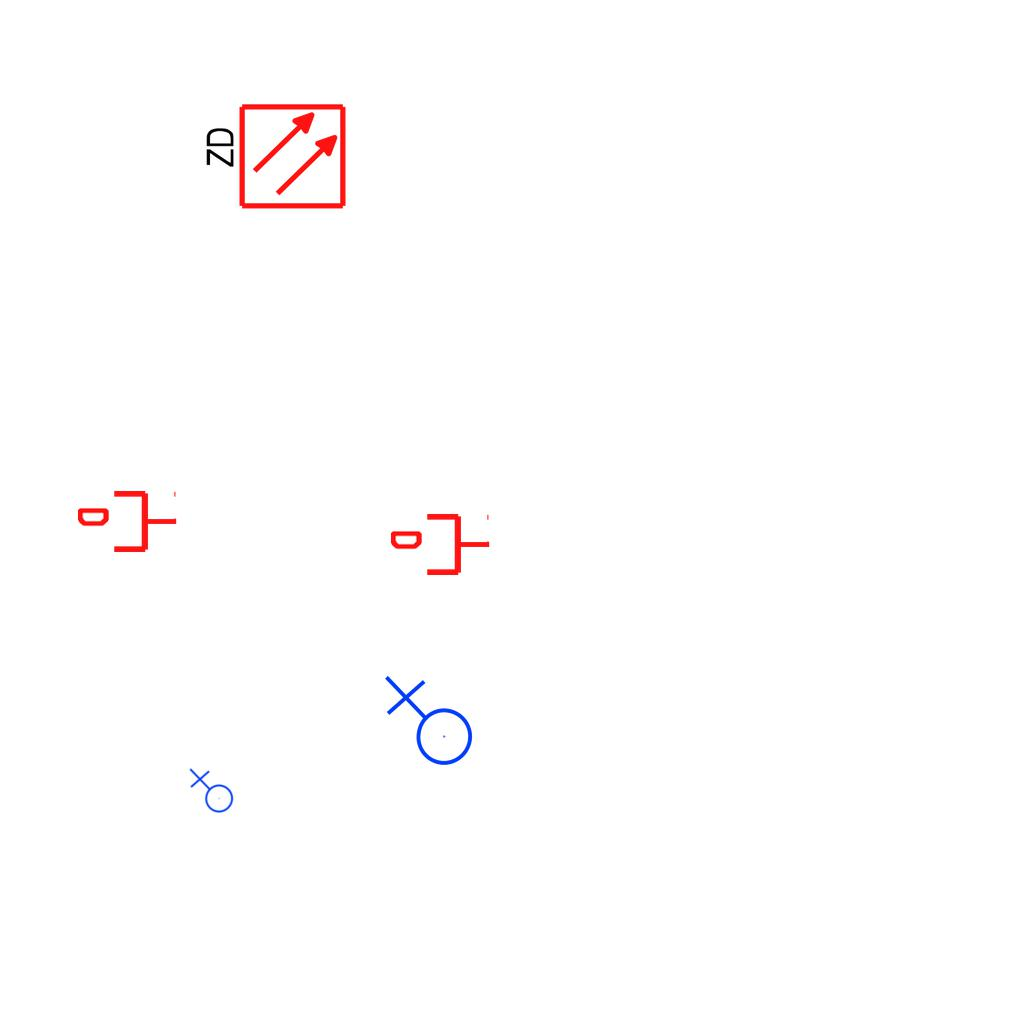Datenanschluss_einfach: (391, 510, 491, 579), (78, 487, 178, 556)
Elektroanschluss_allgemein_230V_Geraeteanschlussdose_230V: (380, 675, 474, 774), (187, 768, 234, 817)
ZD_Melder_in_Zwischendecke_mit_Revisionsoeffnung_mind_40_x_40_cm: (199, 101, 348, 215)
